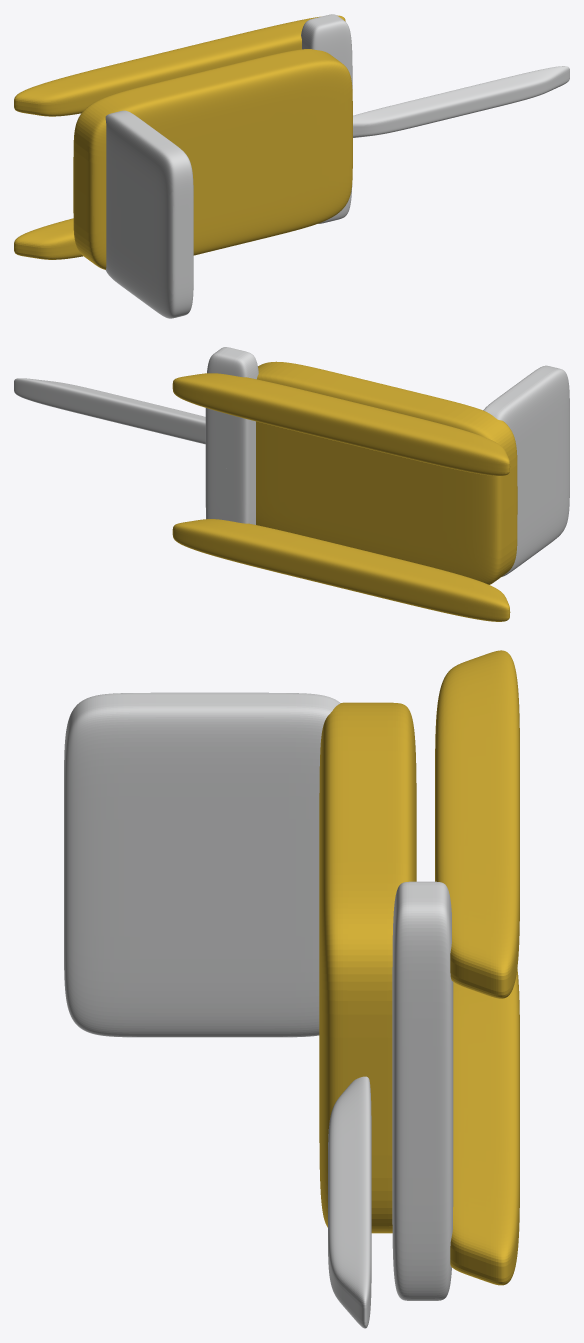
File: wooden_snow_sled_sq.glb
3 views of the same model, one above another, from view 1: azimuth 30°, elevation 25°; view 2: azimuth 150°, elevation 25°; view 3: azimuth 270°, elevation 25° (orthographic). The views are drawn at different scales.
Visible parts, largest first — view 1: superquadric_2, superquadric_4, superquadric_1, superquadric_5, superquadric_3, superquadric_0; view 2: superquadric_2, superquadric_1, superquadric_0, superquadric_4, superquadric_3, superquadric_5; view 3: superquadric_4, superquadric_2, superquadric_1, superquadric_3, superquadric_0, superquadric_5.
Part boxes in pixels (bbox=[...]): superquadric_2: bbox=[73, 49, 352, 269]; superquadric_4: bbox=[105, 110, 193, 318]; superquadric_1: bbox=[14, 15, 345, 116]; superquadric_5: bbox=[353, 66, 569, 137]; superquadric_3: bbox=[301, 14, 352, 223]; superquadric_0: bbox=[14, 218, 82, 259]; superquadric_2: bbox=[256, 361, 517, 584]; superquadric_1: bbox=[172, 373, 510, 475]; superquadric_0: bbox=[172, 519, 510, 621]; superquadric_4: bbox=[483, 365, 569, 576]; superquadric_3: bbox=[205, 347, 258, 524]; superquadric_5: bbox=[14, 378, 205, 444]; superquadric_4: bbox=[64, 692, 340, 1037]; superquadric_2: bbox=[319, 702, 416, 1233]; superquadric_1: bbox=[435, 650, 519, 998]; superquadric_3: bbox=[392, 881, 453, 1300]; superquadric_0: bbox=[450, 968, 519, 1285]; superquadric_5: bbox=[328, 1076, 371, 1328].
Size of the model in its own units: 1 by 0.3638 by 0.379.
